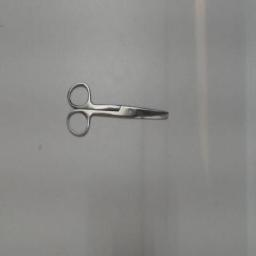Dressing Scissors: (60, 74, 176, 144)
